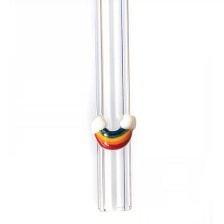drinking_straw: (86, 1, 142, 216)
